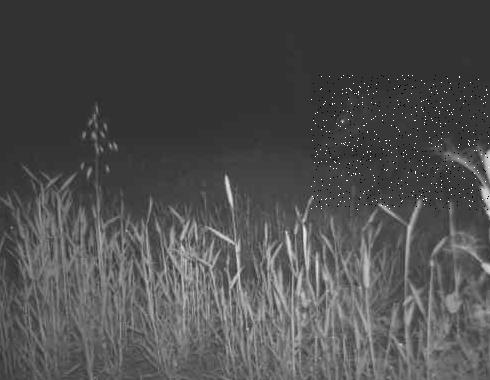Hog: (311, 75, 490, 210)
